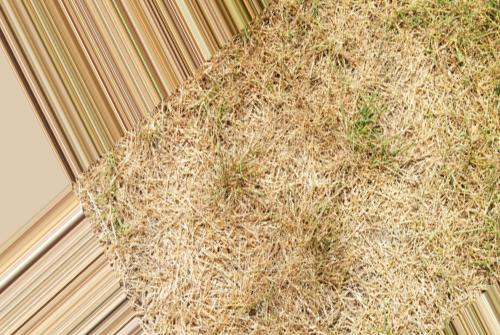patch: (104, 168, 494, 247), (169, 102, 487, 167), (140, 259, 448, 319), (239, 42, 489, 101)
